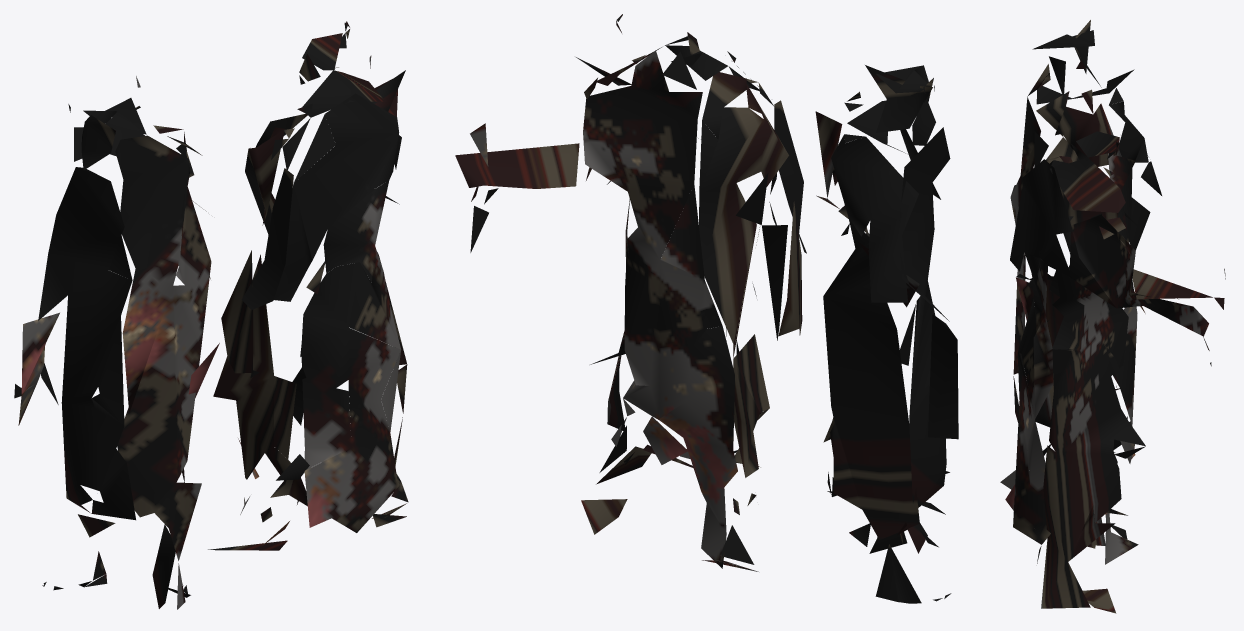
3 renders of one model, left to right at view 1: azimuth 30°, elevation 25°; view 2: azimuth 150°, elevation 25°; view 3: azimuth 270°, elevation 25°, orthographic. The views are drawn at different scales.
Visible parts, largest first — view 1: body.002; view 2: body.002; view 3: body.002.
Part boxes in pixels (box(x1,y1,x2,y2)): body.002: box(14, 21, 408, 609); body.002: box(455, 14, 958, 603); body.002: box(1000, 20, 1225, 613).
Bounding box in the file's own units: 1.79 × 2.02 × 0.8884.
1 material, 1 textured.
